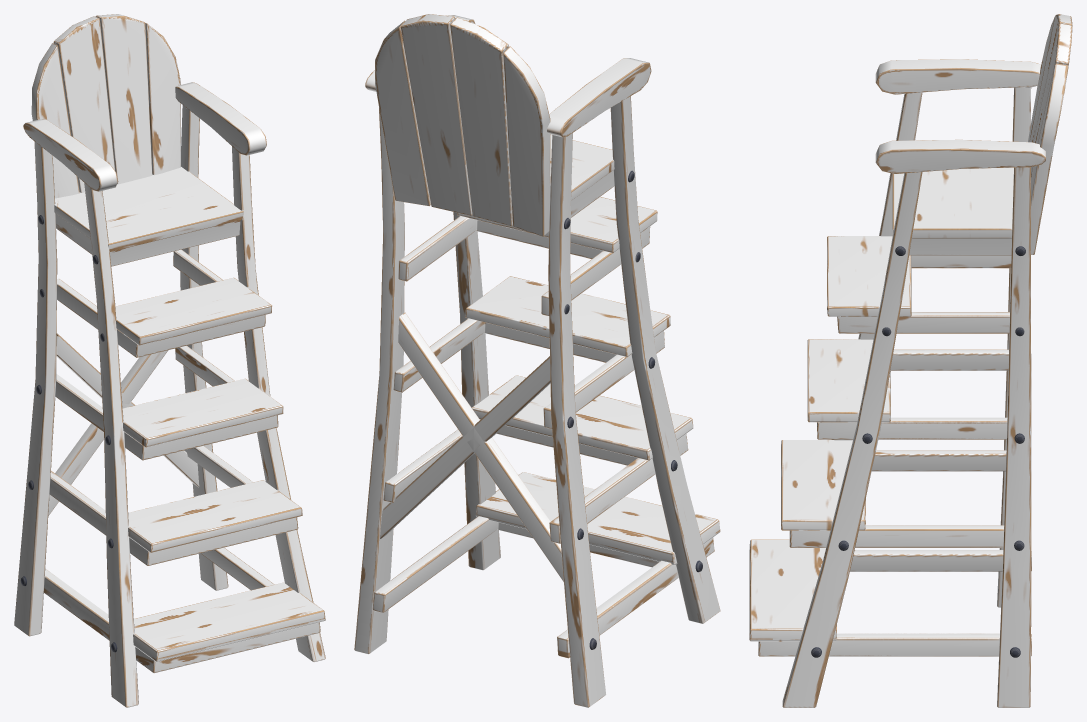
Rendered from LifeguardChair.fbx.
The picture shows the model from 3 angles, left to right: view 1: azimuth 30°, elevation 25°; view 2: azimuth 150°, elevation 25°; view 3: azimuth 270°, elevation 25°; orthographic projection. The views are drawn at different scales.
Visible parts, largest first — view 1: LifeguardChair; view 2: LifeguardChair; view 3: LifeguardChair.
Boxes of the visible parts, left/top/right/bottom form: LifeguardChair: left=14, top=14, right=325, bottom=707; LifeguardChair: left=354, top=14, right=720, bottom=707; LifeguardChair: left=749, top=14, right=1072, bottom=707.
Bounding box in the file's own units: 1.36 × 1.72 × 3.72.
Materials: 1 (1 with a texture image).
